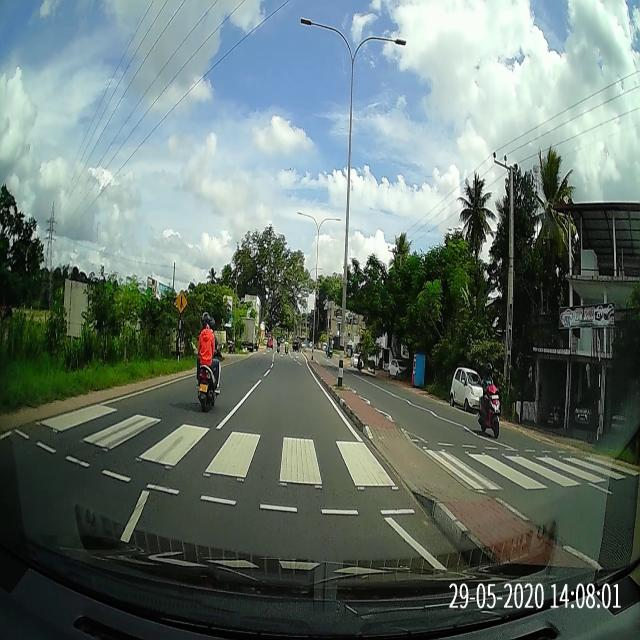Crosswalk: (9, 400, 639, 520)
